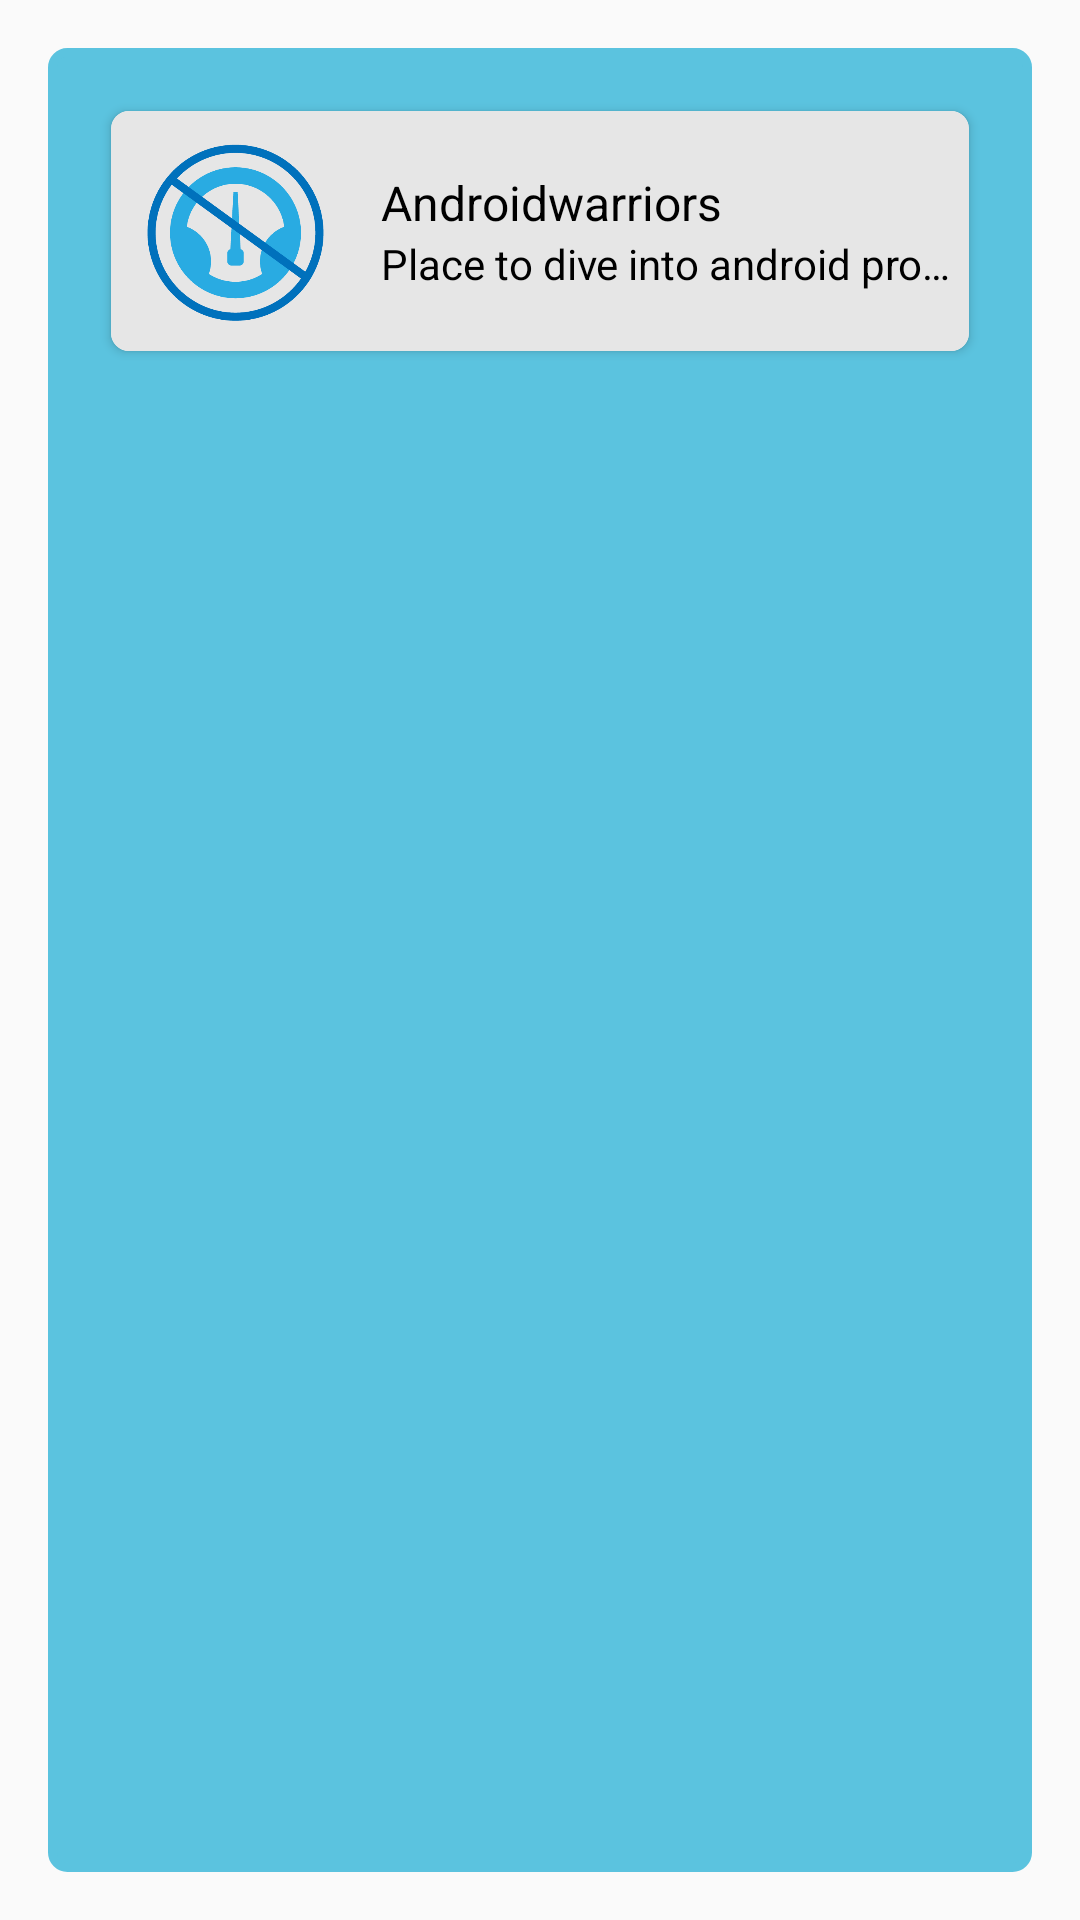

Icons on this 1080 x 1920 Android screen, each with its box as (x1, y1, x2, y2):
tidak ada foto meter: (147, 144, 324, 321)
